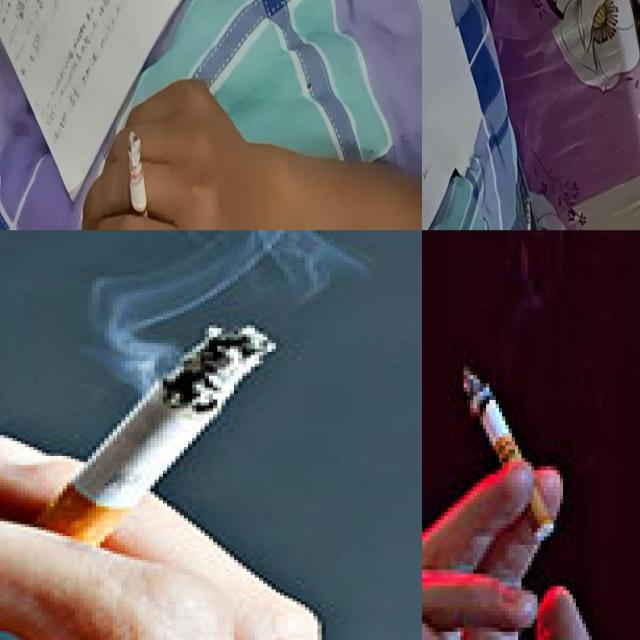cigarette: (0, 321, 276, 612), (454, 358, 550, 532), (126, 128, 152, 230), (525, 196, 532, 230)
